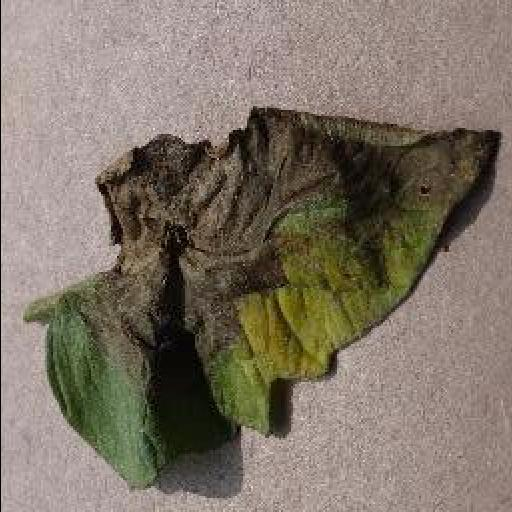disease_tomato: (39, 102, 501, 498)
